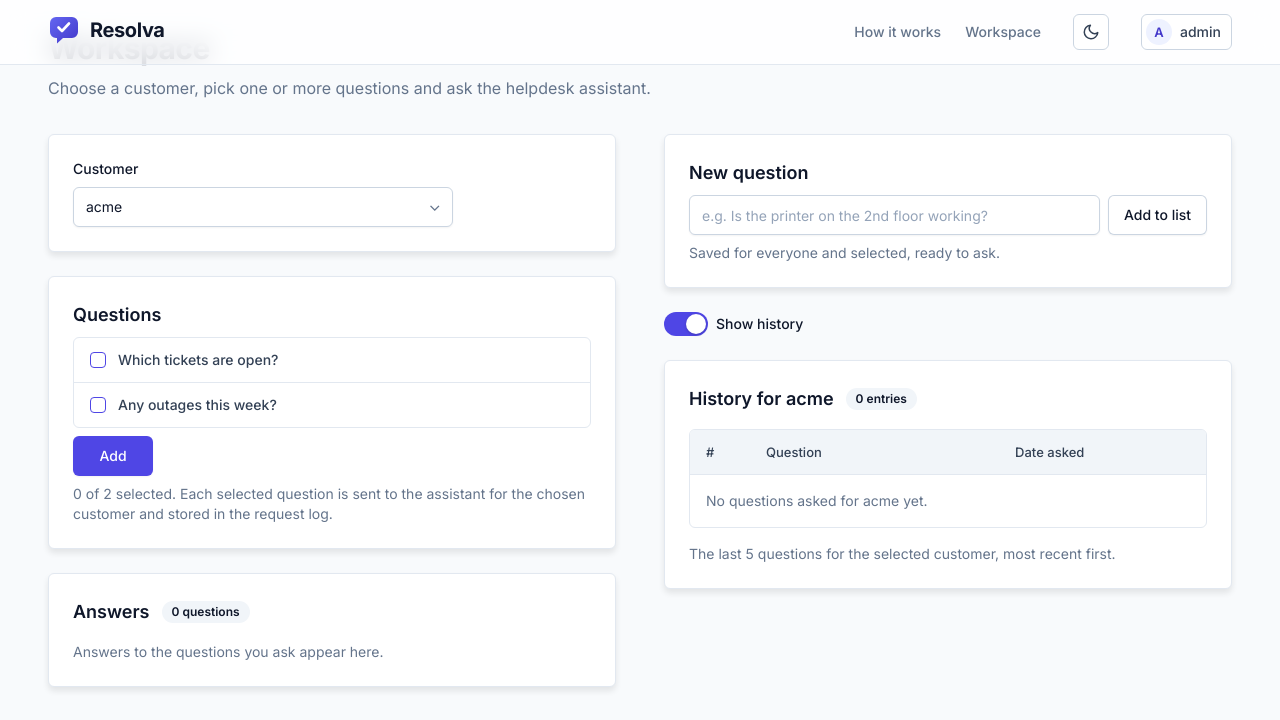
Test: App › asks the selected question for the chosen customer and shows the answer
(page scrolled)
Click the checkbox labelled "Which tickets are open?" at (98, 360), box x1=90 y1=352 x2=106 y2=368
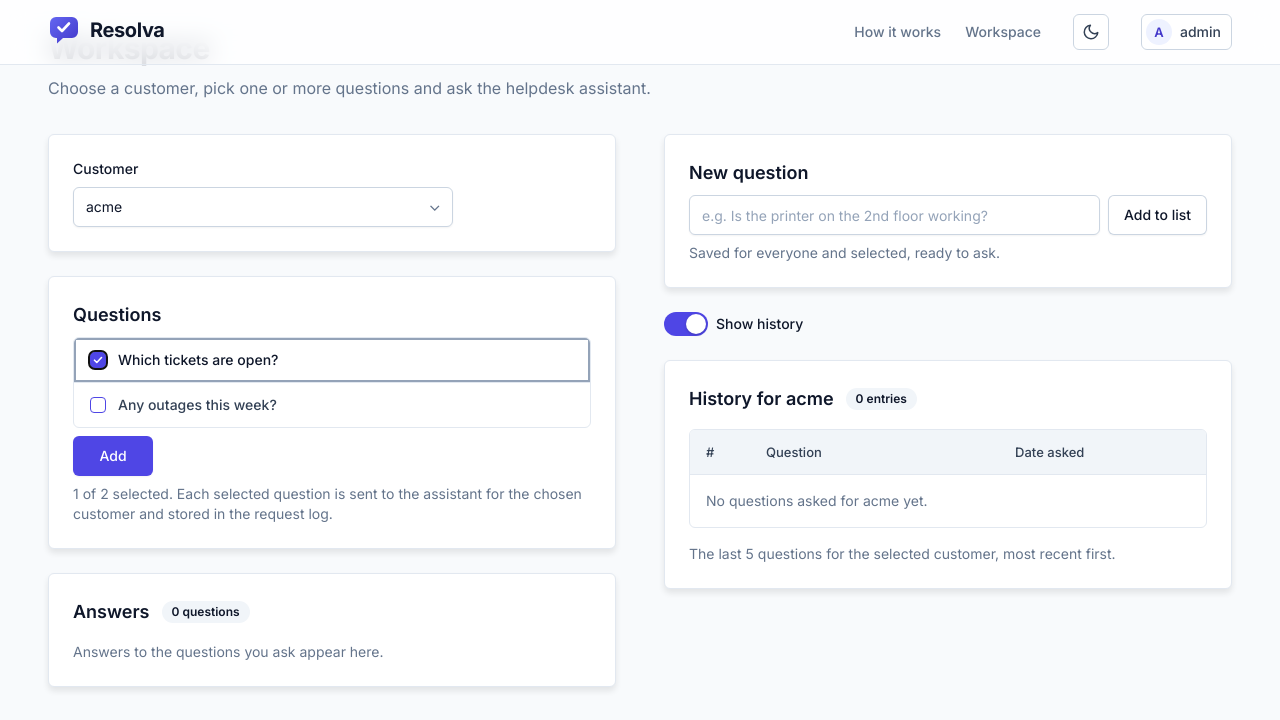
Click the button "Add" at (113, 456), box x1=73 y1=436 x2=153 y2=476
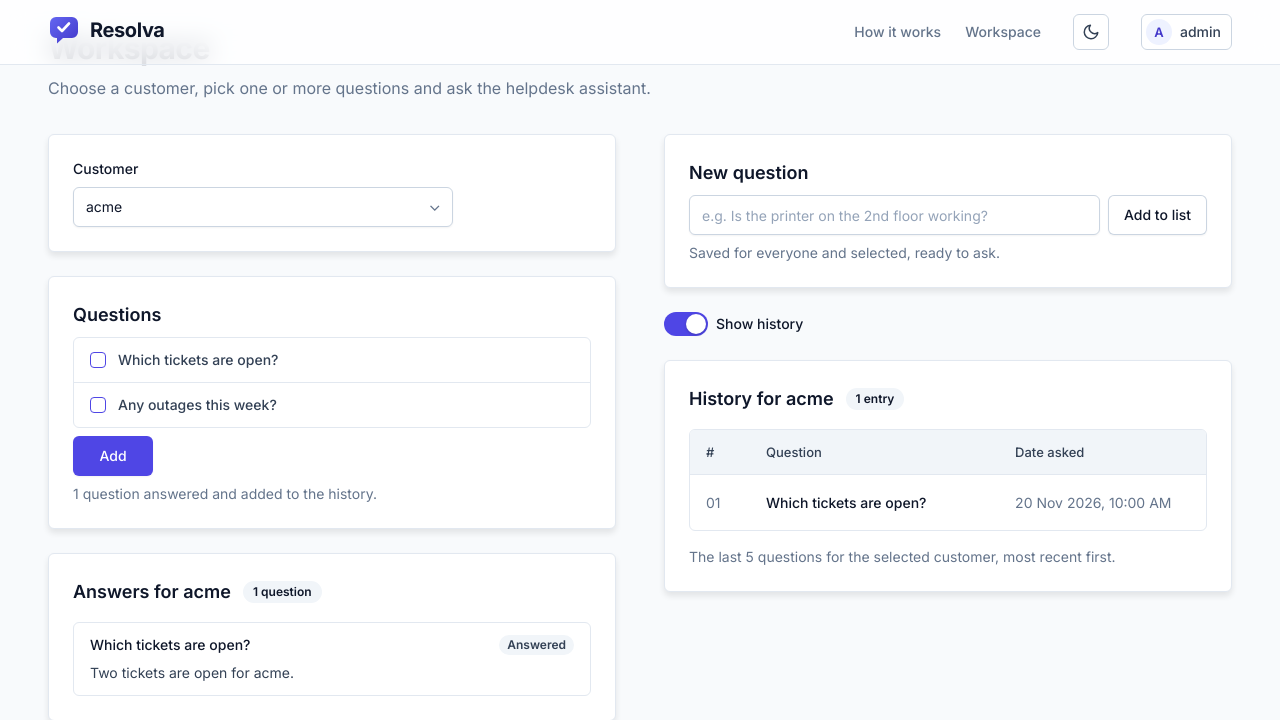
expect the list item "Two tickets are open for acme." shows "Answered": met, box x1=507 y1=637 x2=566 y2=652
expect the heading "Answers for acme" is shown: met, box x1=73 y1=578 x2=231 y2=606
expect the message reads "1 question answered and added to the history.": met, box x1=73 y1=485 x2=377 y2=502
